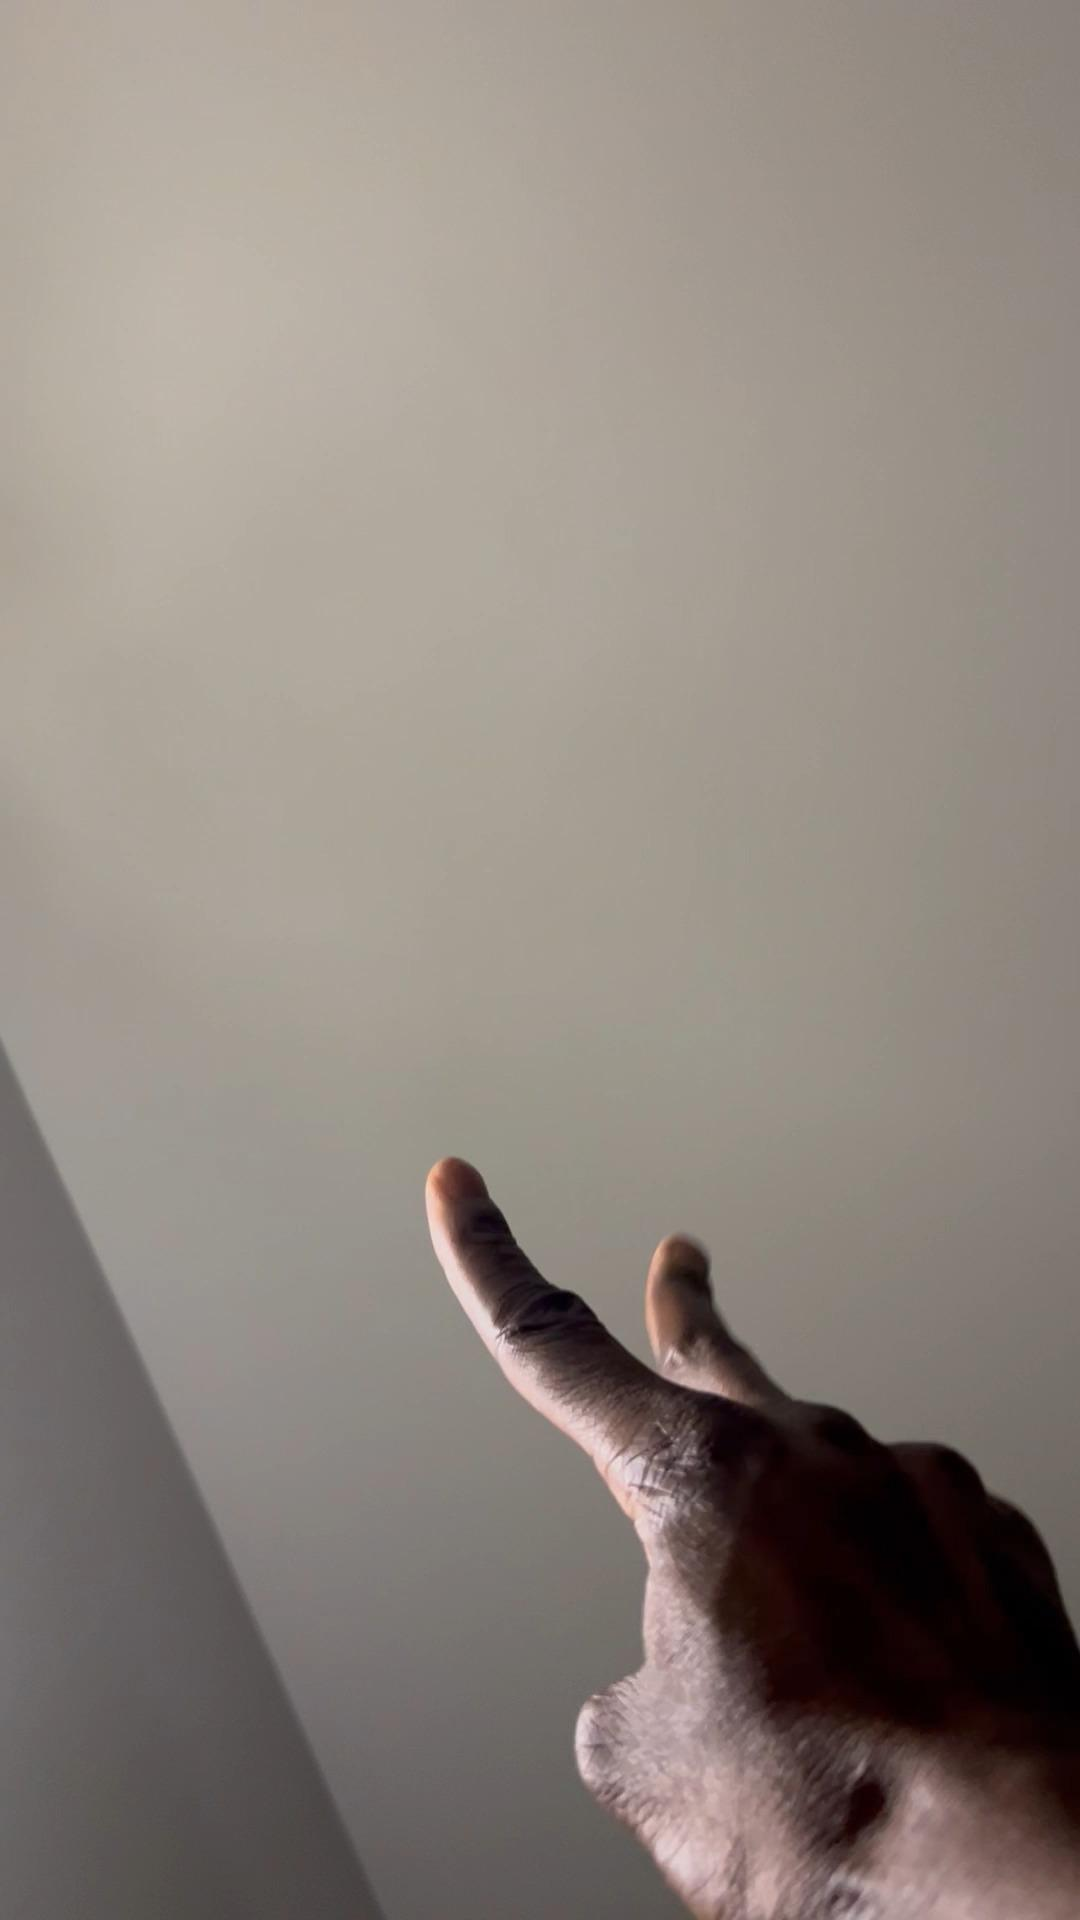Scissors: (423, 1147, 1080, 1920)
